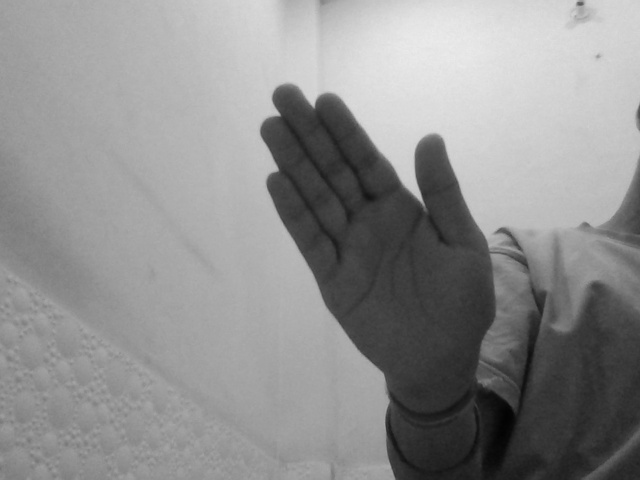Hello: (252, 78, 502, 393)
